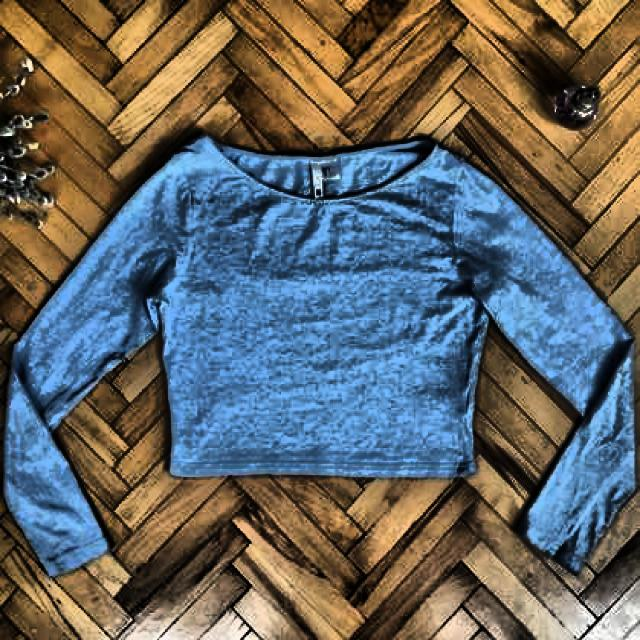clothes: (6, 134, 637, 582)
